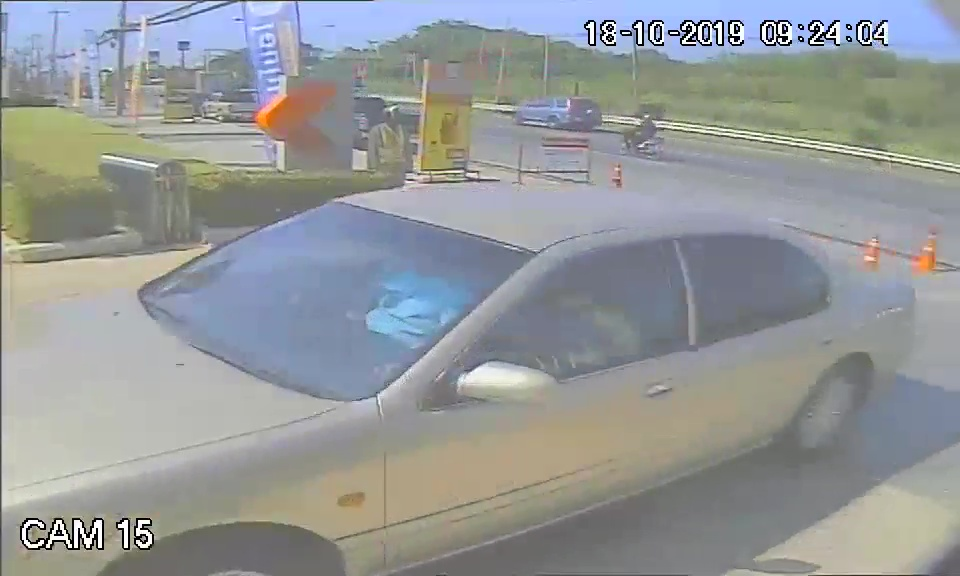sedan: (32, 183, 916, 521)
